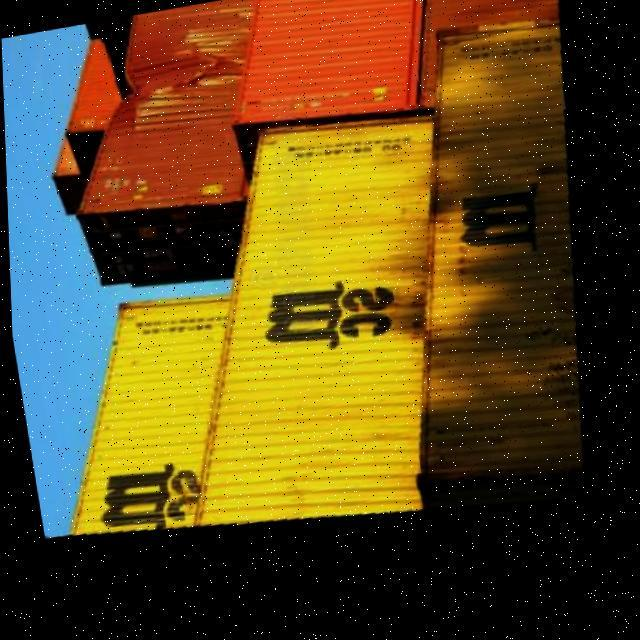dent: (109, 38, 230, 139)
